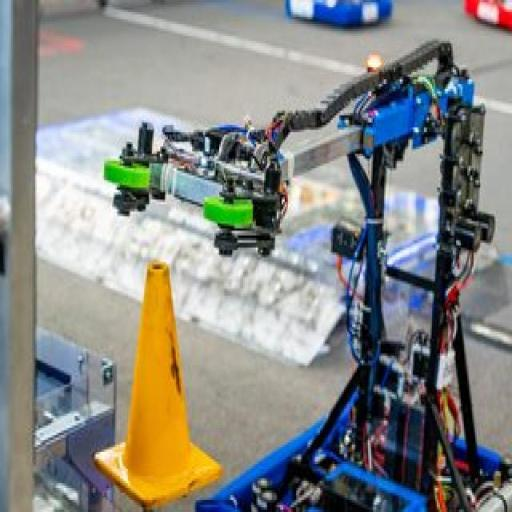robot: (98, 29, 512, 512), (283, 0, 394, 29), (457, 0, 512, 32)
